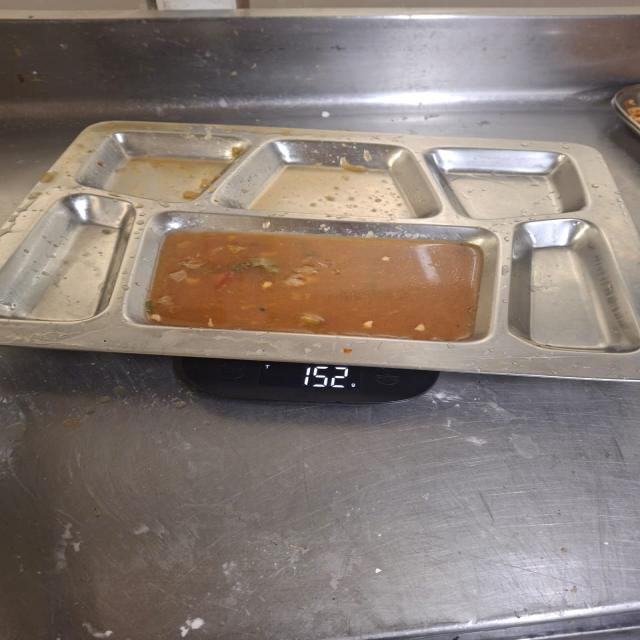Veg Manchurian: (138, 214, 501, 346)
